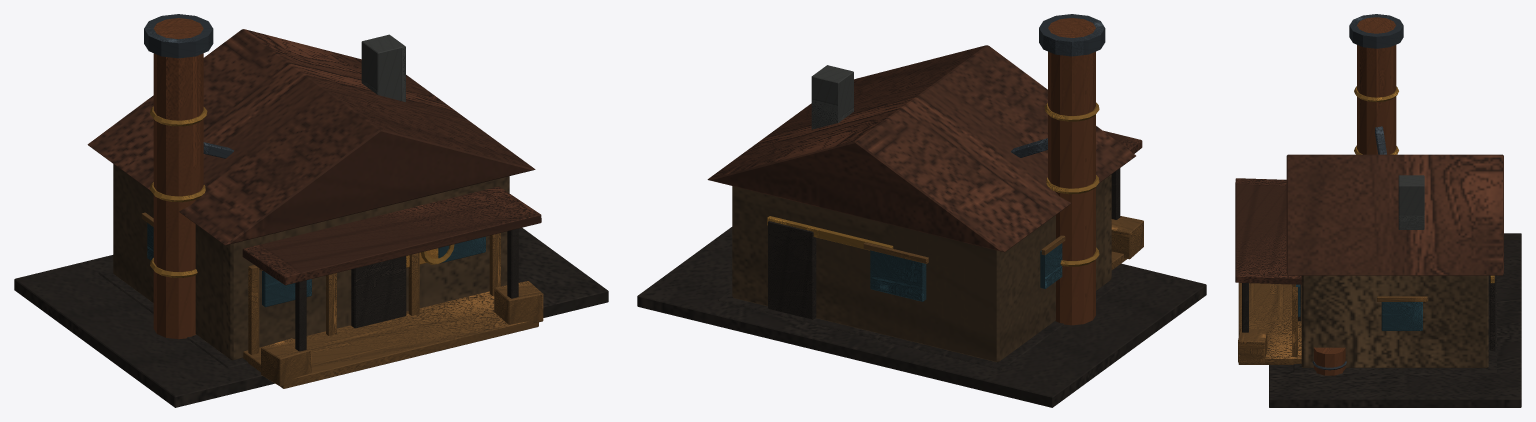
File: lampworks_yard.glb
The picture shows the model from 3 angles, left to right: view 1: azimuth 30°, elevation 25°; view 2: azimuth 150°, elevation 25°; view 3: azimuth 270°, elevation 25°; orthographic projection. The views are drawn at different scales.
Visible parts, largest first — view 1: lampworks_yard; view 2: lampworks_yard; view 3: lampworks_yard.
Part boxes in pixels (x1,y1,x2,y2): lampworks_yard: (14, 14, 608, 407); lampworks_yard: (637, 14, 1206, 407); lampworks_yard: (1235, 14, 1521, 407).
Size of the model in its own units: 8.4 by 5.8 by 6.12.
1 material, 1 textured.
